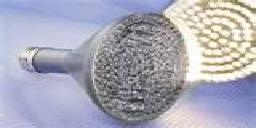LED: (17, 9, 190, 128), (92, 14, 200, 124)
